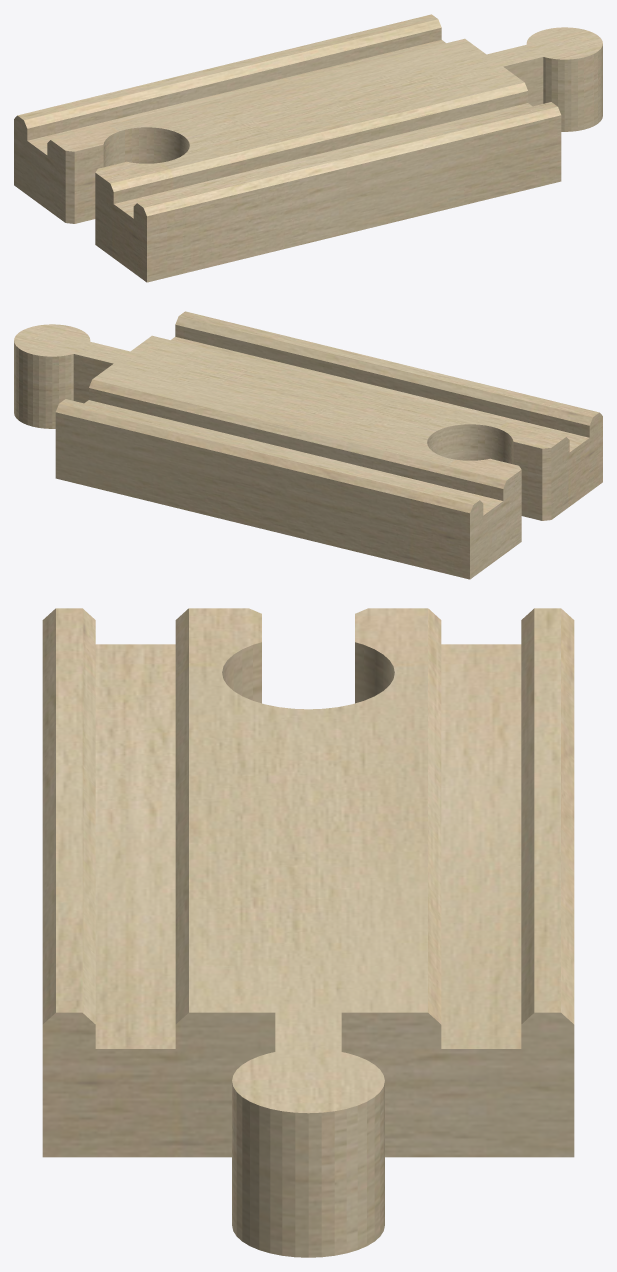
3 renders of one model, top to bottom at view 1: azimuth 30°, elevation 25°; view 2: azimuth 150°, elevation 25°; view 3: azimuth 270°, elevation 25°, orthographic. The views are drawn at different scales.
Visible parts, largest first — view 1: SketchUp; view 2: SketchUp; view 3: SketchUp.
Part boxes in pixels (x1,y1,x2,y2): SketchUp: [14, 14, 602, 282]; SketchUp: [14, 311, 602, 579]; SketchUp: [42, 608, 574, 1257].
Size of the model in its own units: 3.54 by 1.57 by 0.4724.
